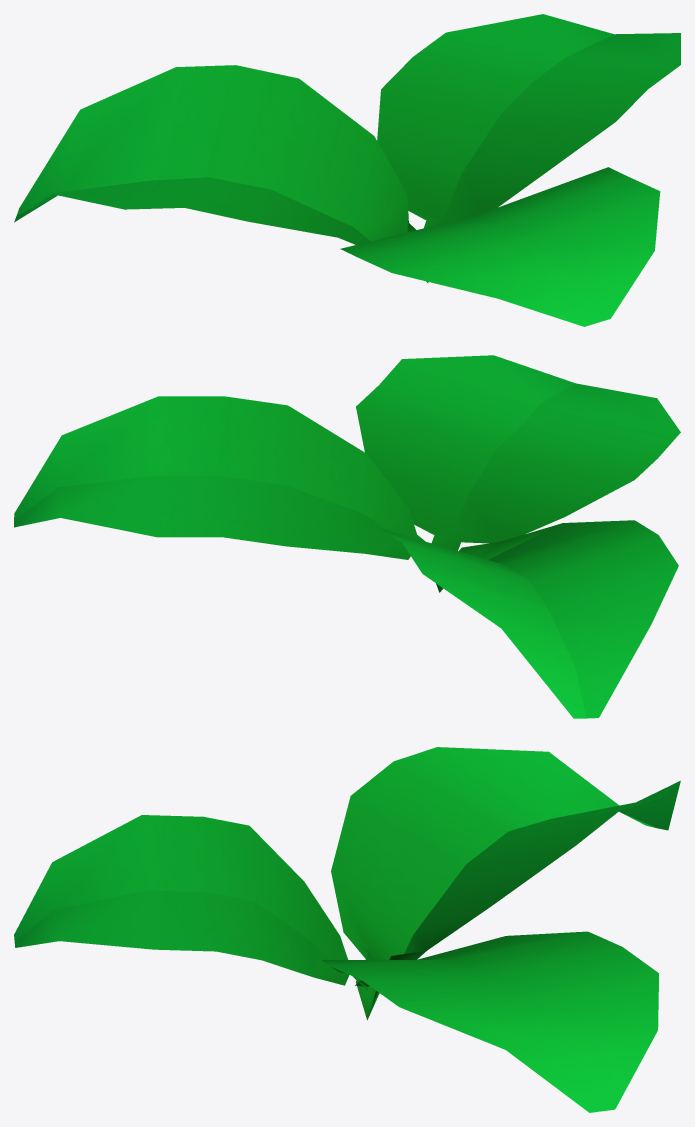
Rendered from Foliage_3.fbx.
3 renders of one model, top to bottom at view 1: azimuth 30°, elevation 25°; view 2: azimuth 150°, elevation 25°; view 3: azimuth 270°, elevation 25°, orthographic. The views are drawn at different scales.
Parts seen in each view (by area): view 1: Foliage_3; view 2: Foliage_3; view 3: Foliage_3.
Part boxes in pixels (box(x1,y1,x2,y2)): Foliage_3: box(14, 14, 680, 326); Foliage_3: box(14, 355, 680, 718); Foliage_3: box(14, 747, 680, 1112).
Size of the model in its own units: 0.5161 by 0.1219 by 0.4383.
